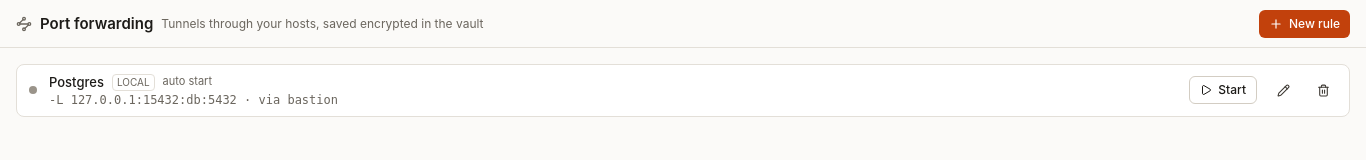
ForwardsView › starts a rule and shows where it listens and how many connections it carries
The width and height of the screenshot is (1366, 160).
Click the button with aria-label "Start Postgres": (1223, 90) [1189,76,1257,104]
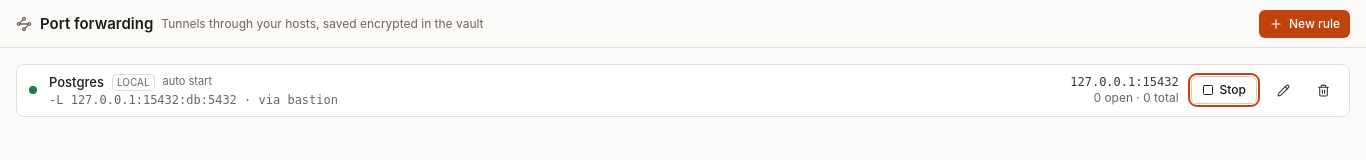
Check: the text "127.0.0.1:15432" is shown, box [1070,74,1179,90]
Check: the element named "Status: running" is shown, box [29,86,37,94]
Click the button with aria-label "Stop Postgres": (1224, 90) [1191,76,1257,104]
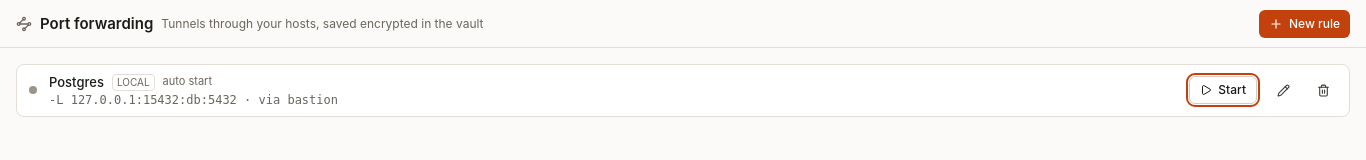
Check: the button with aria-label "Start Postgres" is shown, box [1189,76,1257,104]
